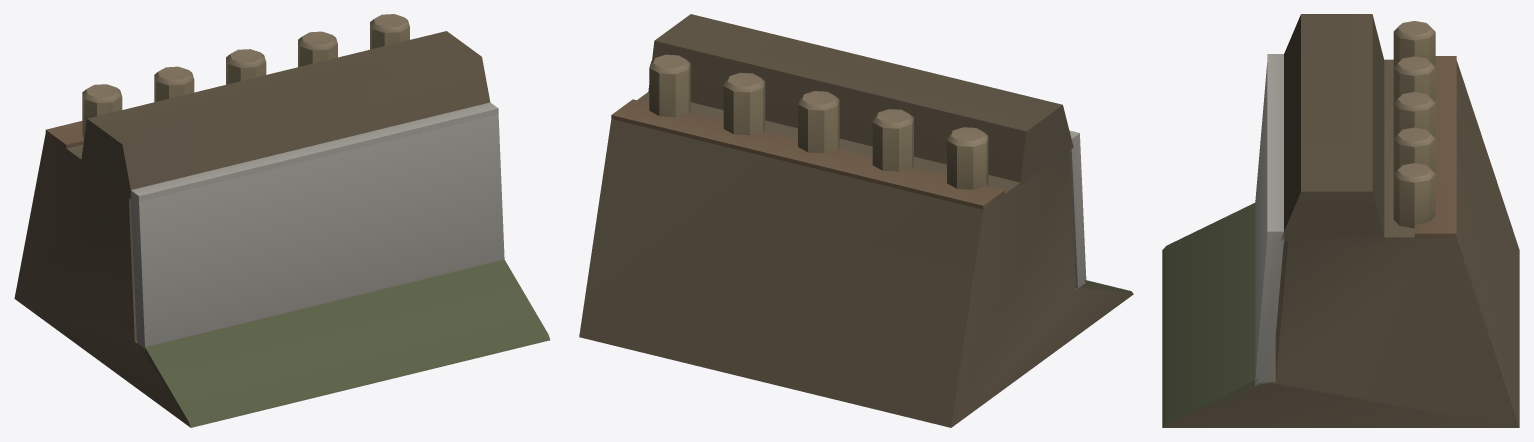
Rendered from wall_early.glb.
The picture shows the model from 3 angles, left to right: view 1: azimuth 30°, elevation 25°; view 2: azimuth 150°, elevation 25°; view 3: azimuth 270°, elevation 25°; orthographic projection. The views are drawn at different scales.
Visible parts, largest first — view 1: Body; view 2: Body; view 3: Body.
Boxes of the visible parts, bbox=[...] form: Body: bbox=[14, 14, 550, 427]; Body: bbox=[579, 14, 1133, 427]; Body: bbox=[1162, 14, 1519, 427].
Size of the model in its own units: 1 by 0.63 by 0.85.
